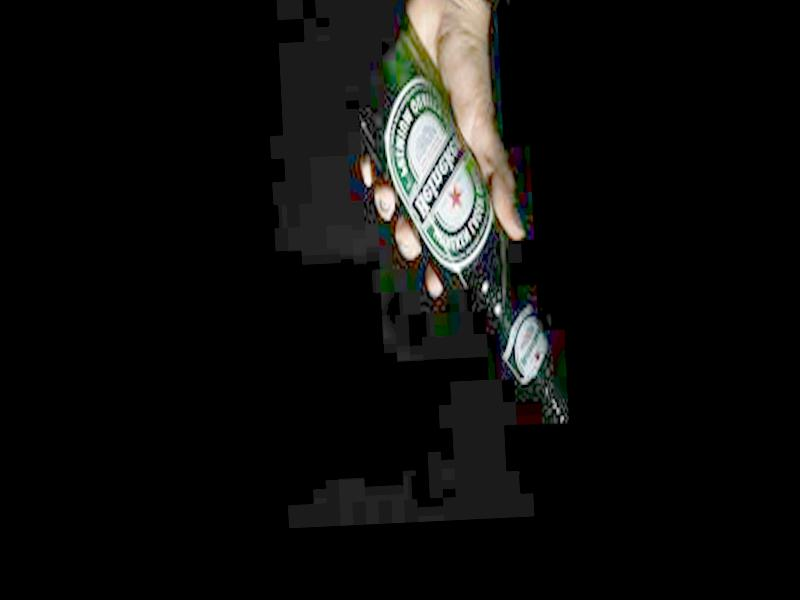Beer: (347, 6, 573, 448)
